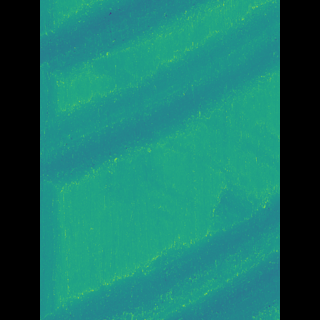Loch: (70, 0, 249, 189), (72, 193, 249, 320)
